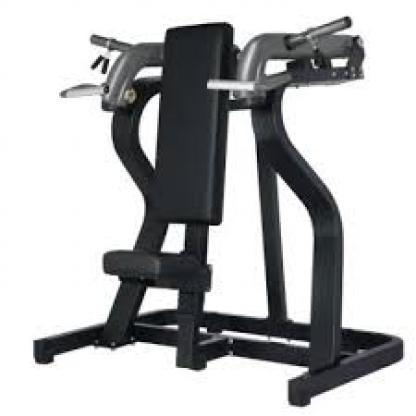shoulder press machine: (25, 16, 409, 409)
